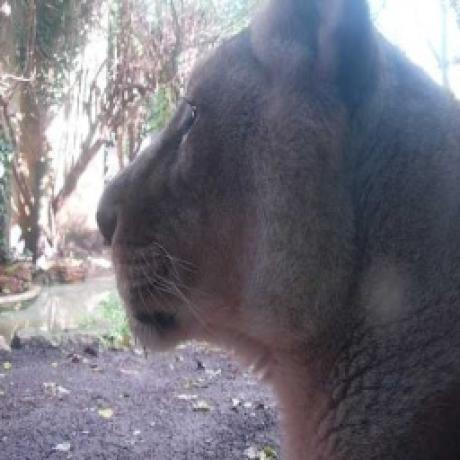Lion: (95, 0, 460, 460)
